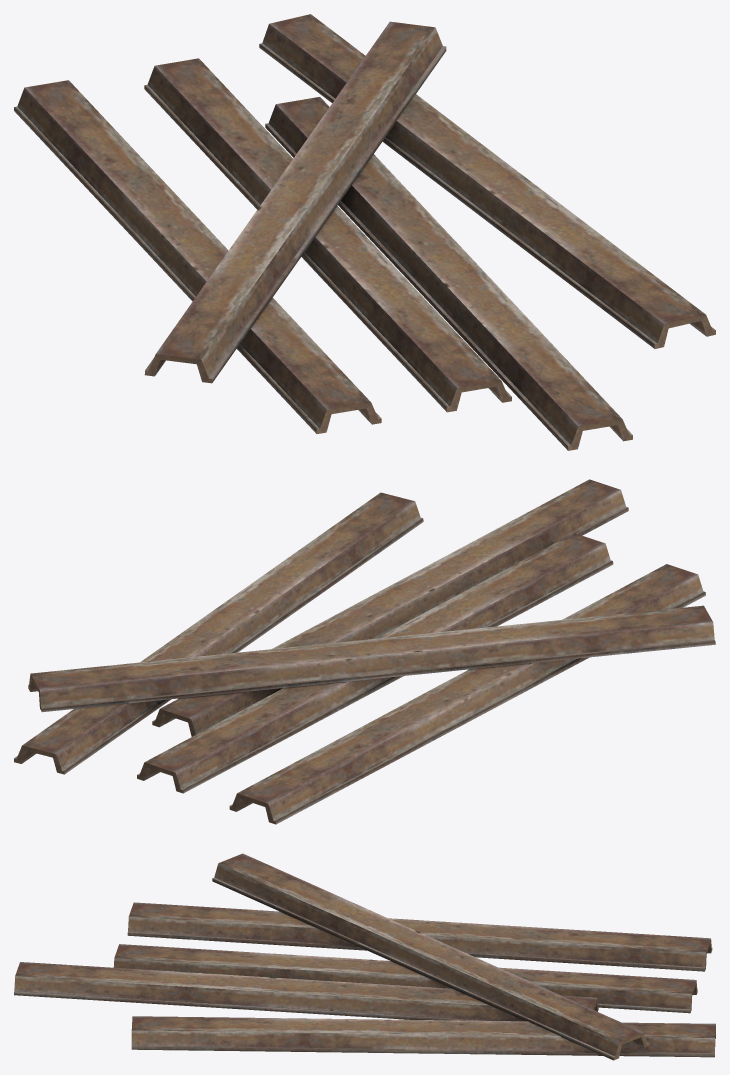
File: construction.004_construction_assets_0.003_lev3.glb
The picture shows the model from 3 angles, top to bottom: view 1: azimuth 30°, elevation 25°; view 2: azimuth 150°, elevation 25°; view 3: azimuth 270°, elevation 25°; orthographic projection. The views are drawn at different scales.
Parts seen in each view (by area): view 1: construction.004_construction_assets_0.003_lev3; view 2: construction.004_construction_assets_0.003_lev3; view 3: construction.004_construction_assets_0.003_lev3.
Part boxes in pixels (x1=…): construction.004_construction_assets_0.003_lev3: x1=14, y1=14, x2=715, y2=450; construction.004_construction_assets_0.003_lev3: x1=14, y1=479, x2=715, y2=824; construction.004_construction_assets_0.003_lev3: x1=14, y1=853, x2=715, y2=1060.
Size of the model in its own units: 12.47 by 0.961 by 19.09.
Materials: 1 (1 with a texture image).
